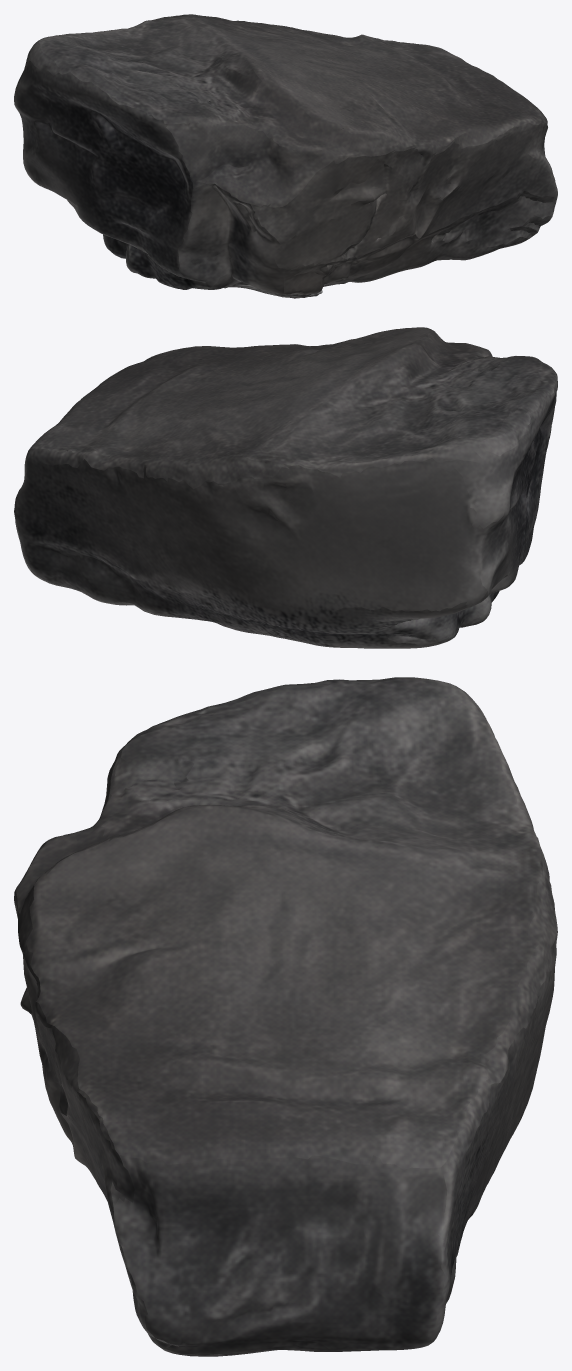
3 views of the same model, one above another, from view 1: azimuth 30°, elevation 25°; view 2: azimuth 150°, elevation 25°; view 3: azimuth 270°, elevation 25° (orthographic). The views are drawn at different scales.
Parts seen in each view (by area): view 1: world; view 2: world; view 3: world.
Boxes of the visible parts, <box> form: world: <box>14,14,557,298</box>; world: <box>14,327,557,648</box>; world: <box>14,677,557,1356</box>.
Bounding box in the file's own units: 2.5 × 1.26 × 1.68.
1 material, 1 textured.
